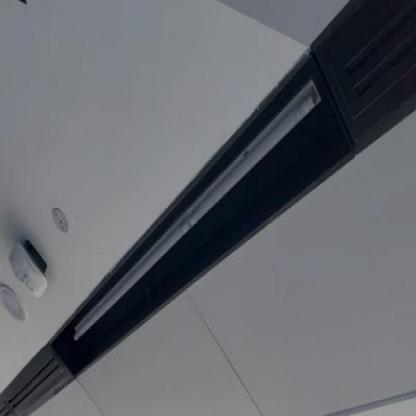light_off: (69, 60, 326, 357)
